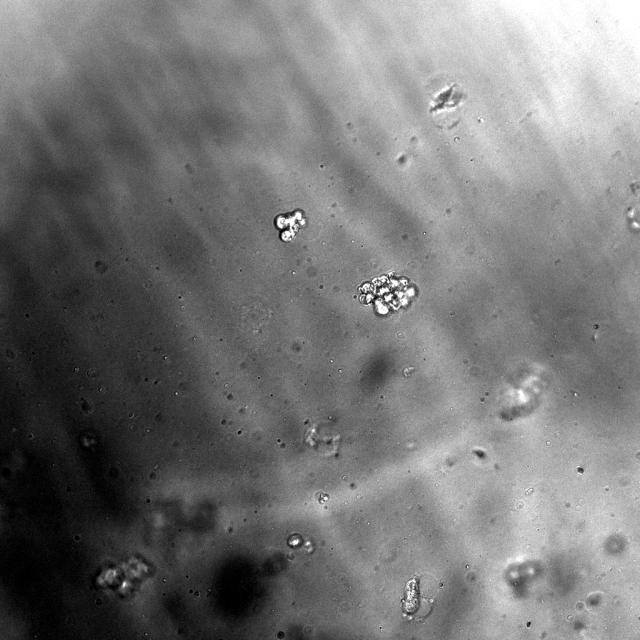organoid: (358, 271, 418, 316), (94, 556, 154, 599), (274, 209, 306, 242), (401, 576, 419, 615), (287, 532, 304, 548)
